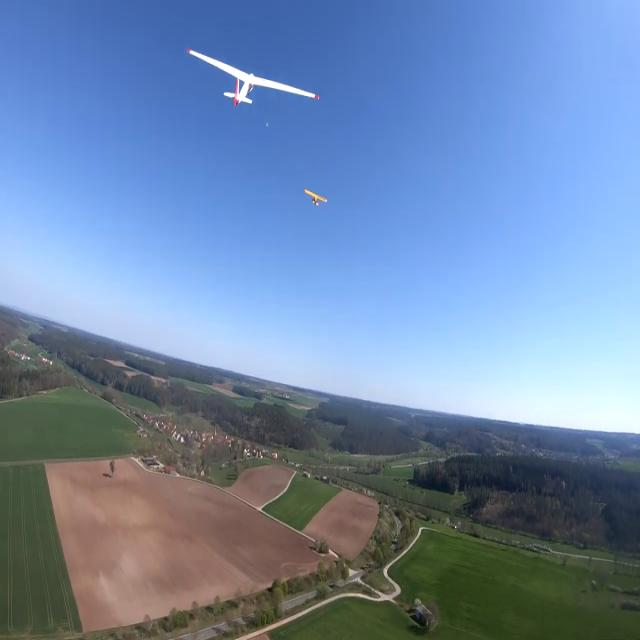iha: (188, 0, 320, 44), (305, 186, 328, 208)
